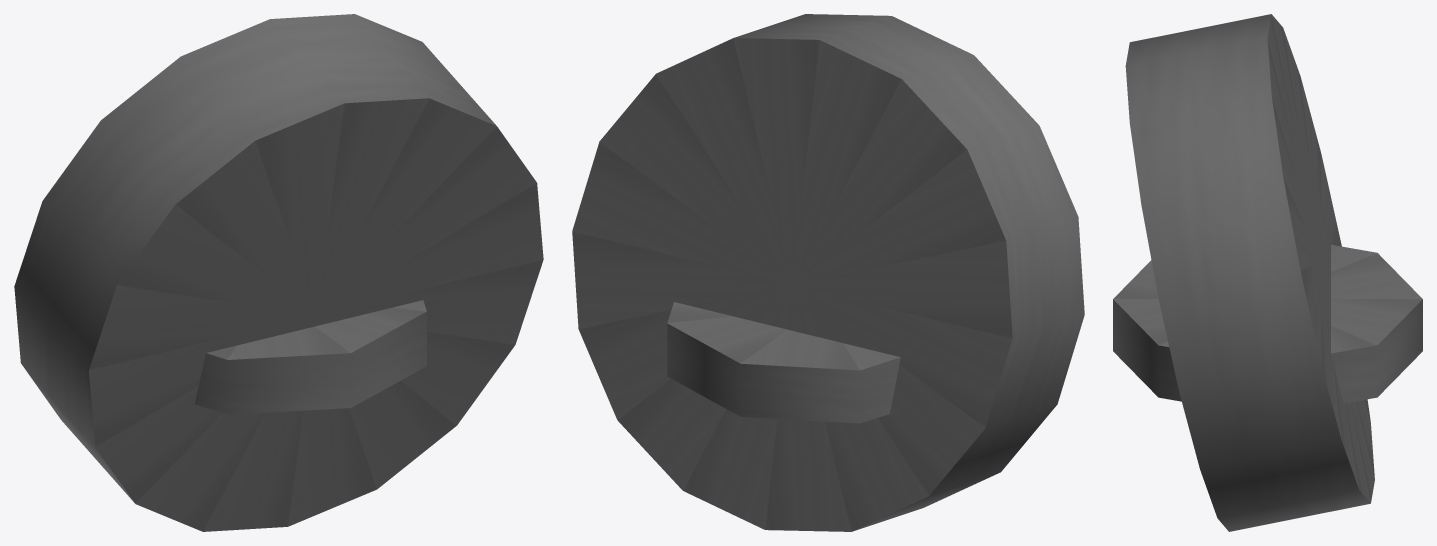
File: mastarmcurve_8x2_c6_down.obj
The picture shows the model from 3 angles, left to right: view 1: azimuth 30°, elevation 25°; view 2: azimuth 150°, elevation 25°; view 3: azimuth 270°, elevation 25°; orthographic projection. The views are drawn at different scales.
Visible parts, largest first — view 1: mastarm_8x2_c6_down; view 2: mastarm_8x2_c6_down; view 3: mastarm_8x2_c6_down.
Part boxes in pixels (bbox=[...]): mastarm_8x2_c6_down: bbox=[14, 14, 543, 531]; mastarm_8x2_c6_down: bbox=[572, 14, 1084, 531]; mastarm_8x2_c6_down: bbox=[1113, 14, 1422, 531].
Size of the model in its own units: 0.6455 by 0.6707 by 0.4.
